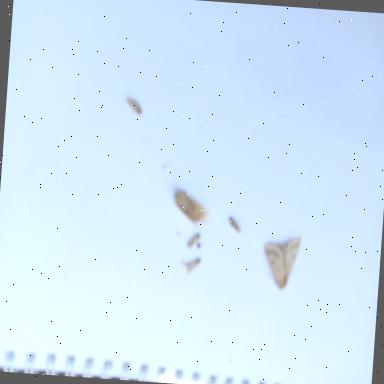abw: (260, 234, 304, 294)
pbw: (170, 184, 218, 228), (124, 96, 144, 116), (185, 256, 200, 275), (187, 234, 202, 252), (227, 218, 242, 235)
